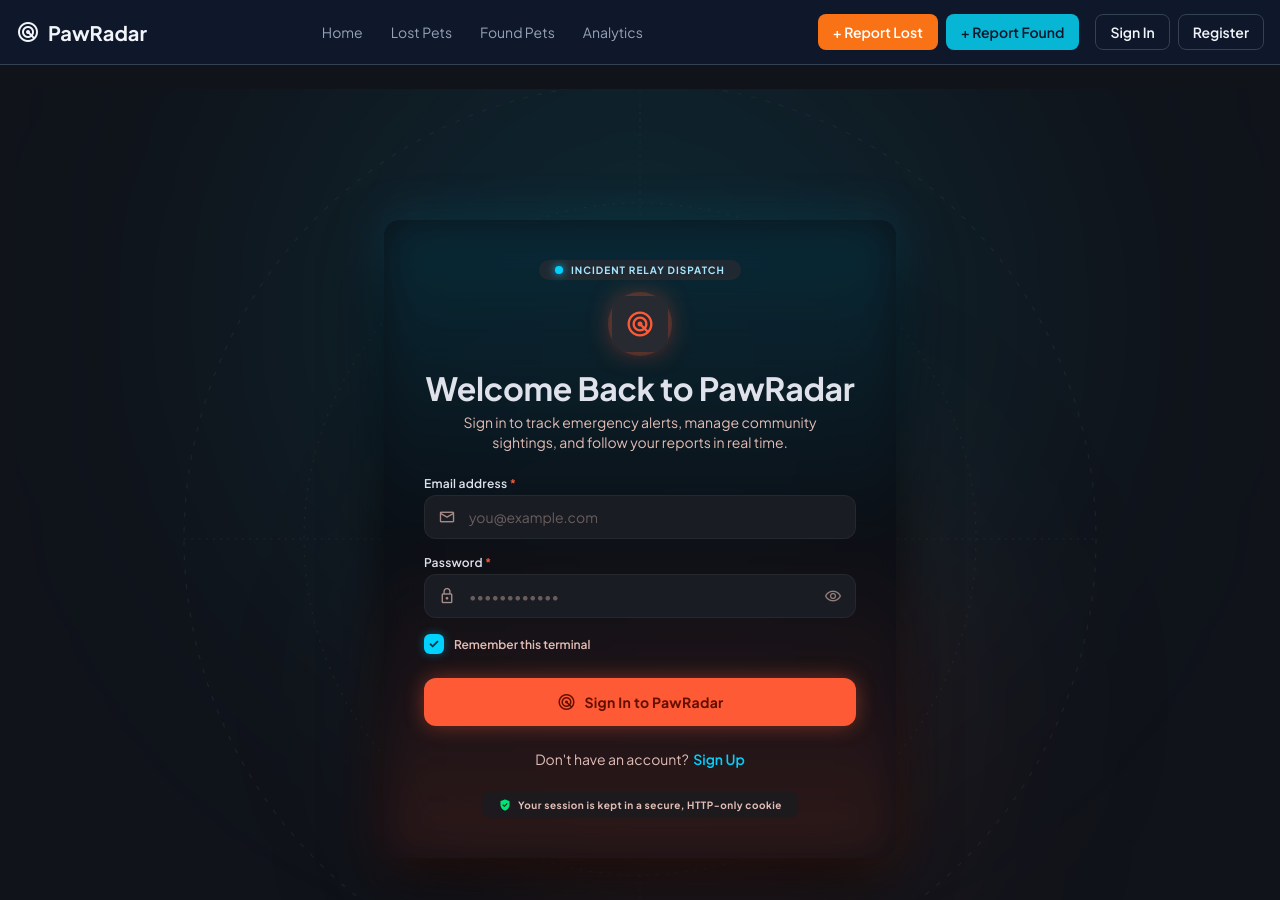
Test: LoginPage › server responses › shows invalid credentials
Type "sam@example.com" into the field labelled "Email address *" at {"x": 640, "y": 517}, box [424,495,856,539]
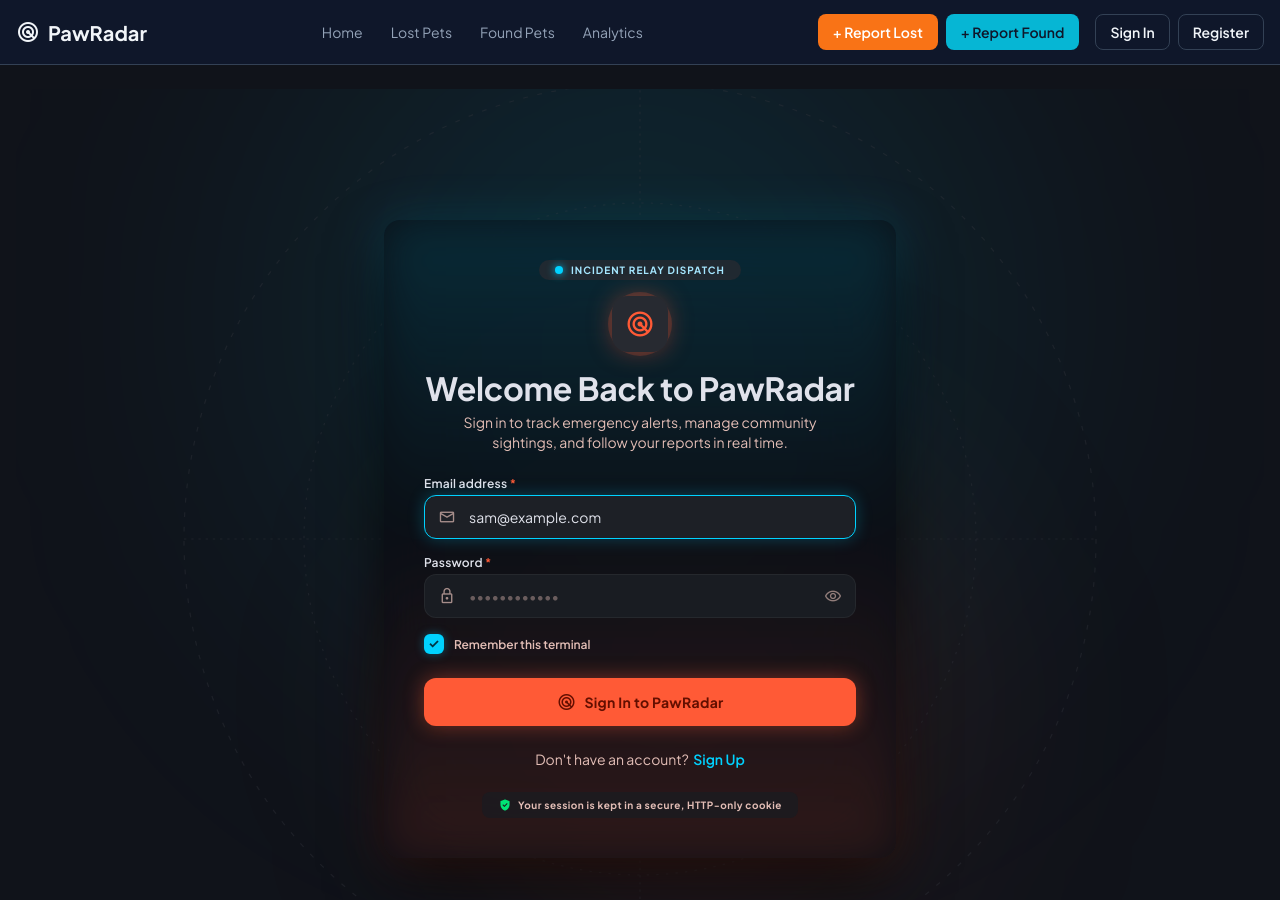
Type "wrong-password" into the password field labelled "Password *" at {"x": 640, "y": 596}, box [424,574,856,618]
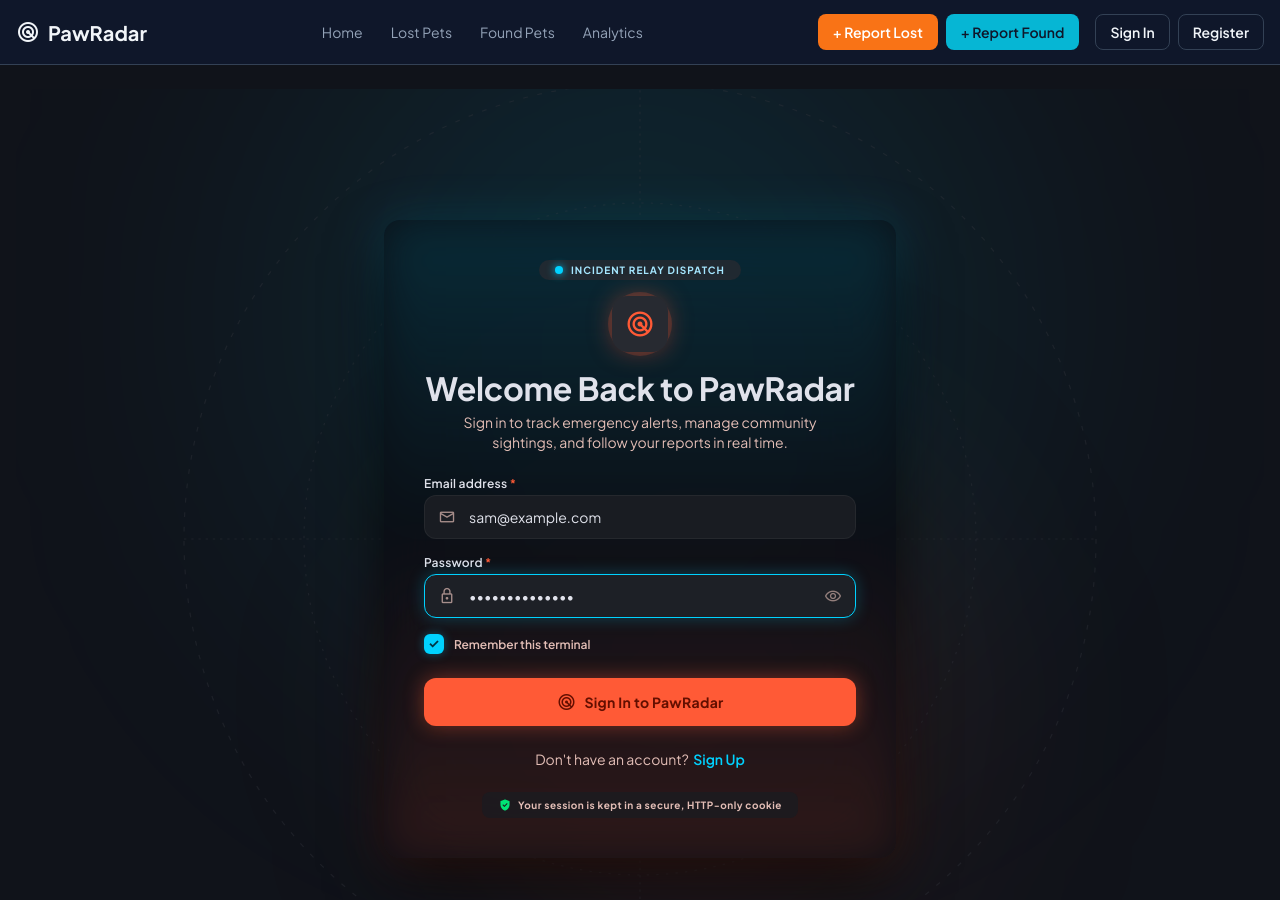
Click the button "Sign In to PawRadar" at {"x": 640, "y": 702}, box [424,678,856,726]
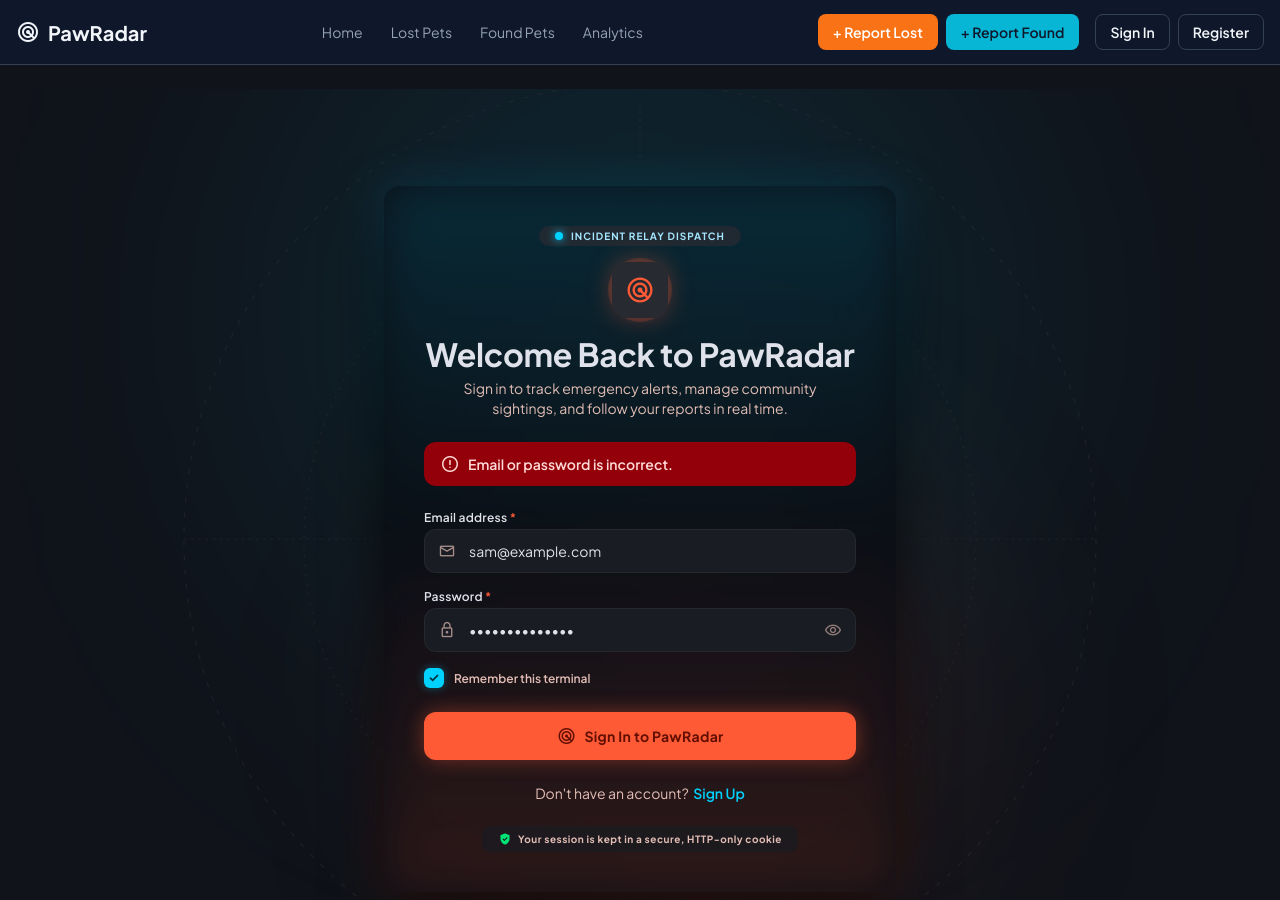
Result: the message reads "Email or password is incorrect." at [468,455,673,473]
